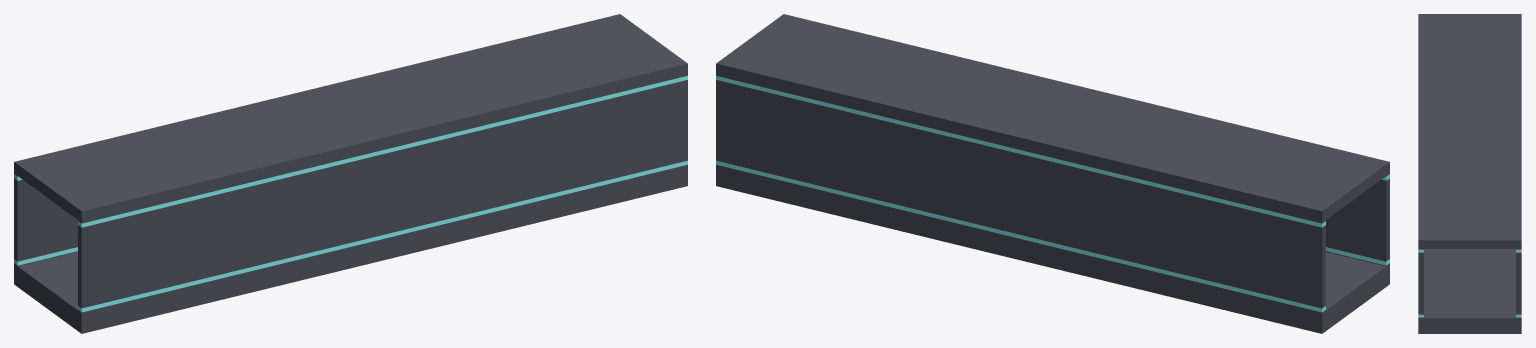
3 views of the same model, side by side, from view 1: azimuth 30°, elevation 25°; view 2: azimuth 150°, elevation 25°; view 3: azimuth 270°, elevation 25° (orthographic). The views are drawn at different scales.
Visible parts, largest first — view 1: PK_SD_05_02; view 2: PK_SD_05_02; view 3: PK_SD_05_02.
Boxes of the visible parts, <box> form: PK_SD_05_02: <box>14,14,687,333</box>; PK_SD_05_02: <box>716,14,1389,333</box>; PK_SD_05_02: <box>1418,14,1521,333</box>.
Bounding box in the file's own units: 14.47 × 2.8 × 2.8.
